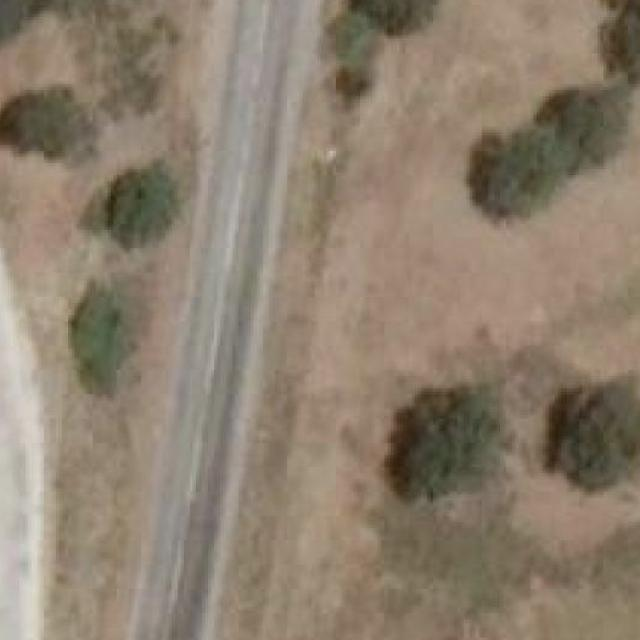Tree: (385, 382, 500, 501), (68, 285, 151, 398), (552, 384, 640, 480), (467, 132, 565, 218), (0, 81, 102, 160), (105, 166, 181, 248), (549, 84, 619, 169), (591, 0, 640, 82), (0, 0, 45, 68), (348, 0, 445, 29)
